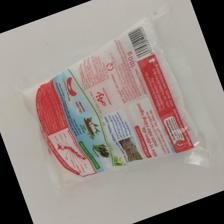Ajinomoto: (22, 22, 198, 181)
